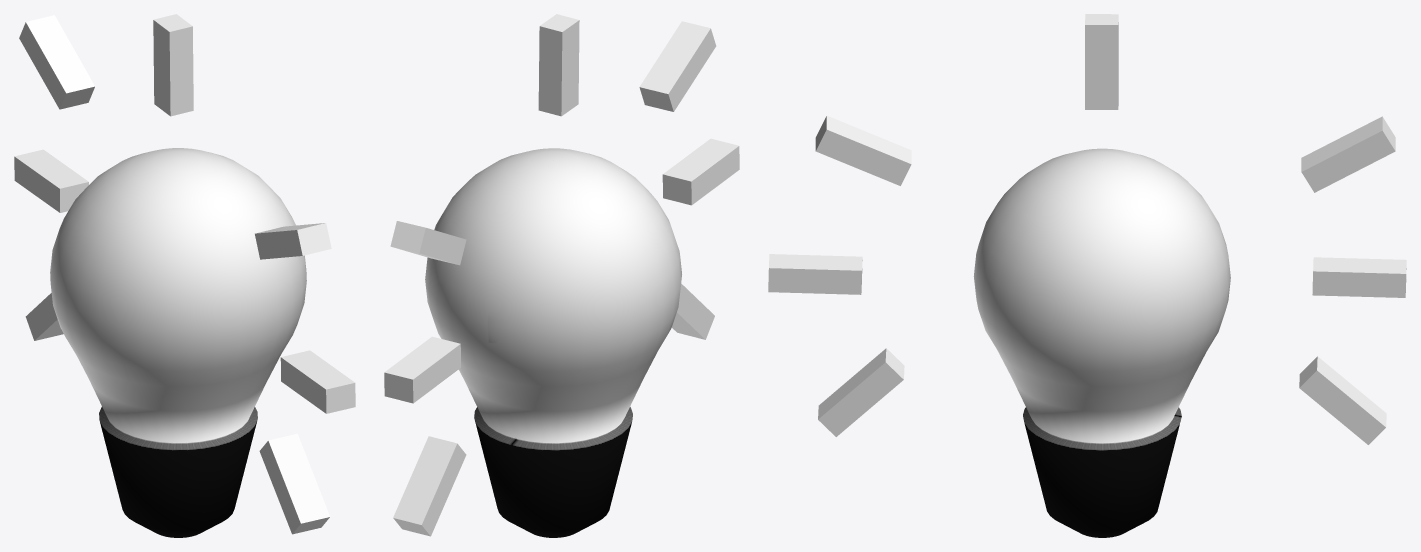
File: glowingBulb.fbx
The picture shows the model from 3 angles, left to right: view 1: azimuth 30°, elevation 25°; view 2: azimuth 150°, elevation 25°; view 3: azimuth 270°, elevation 25°; orthographic projection.
Parts seen in each view (by area): view 1: Cube; view 2: Cube; view 3: Cube.
Part boxes in pixels (left/top/right/bottom): Cube: left=14, top=14, right=355, bottom=537; Cube: left=384, top=14, right=739, bottom=537; Cube: left=768, top=14, right=1406, bottom=537.
Size of the model in its own units: 2 by 4.33 by 4.97.
